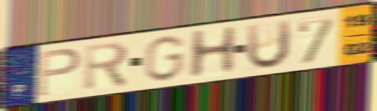7: (296, 14, 337, 66)
G: (141, 34, 188, 84)
H: (186, 24, 240, 81)
P: (36, 46, 83, 98)
R: (82, 40, 132, 94)
U: (245, 17, 294, 72)
